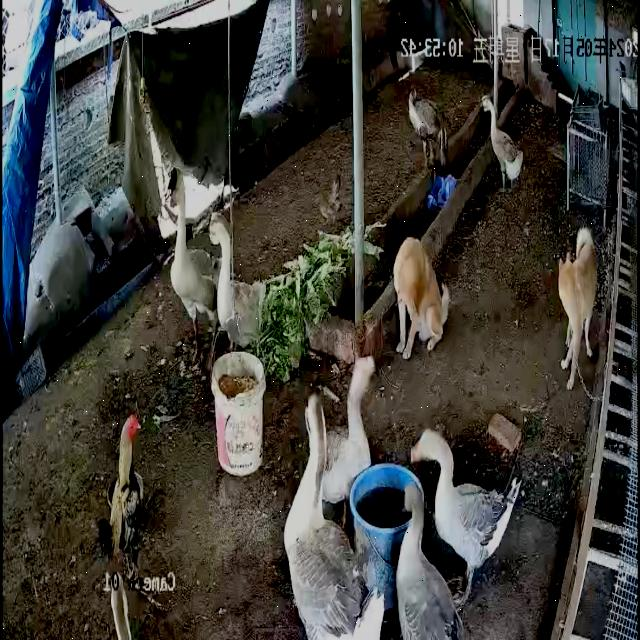dog: (394, 237, 452, 361), (559, 227, 599, 393)
